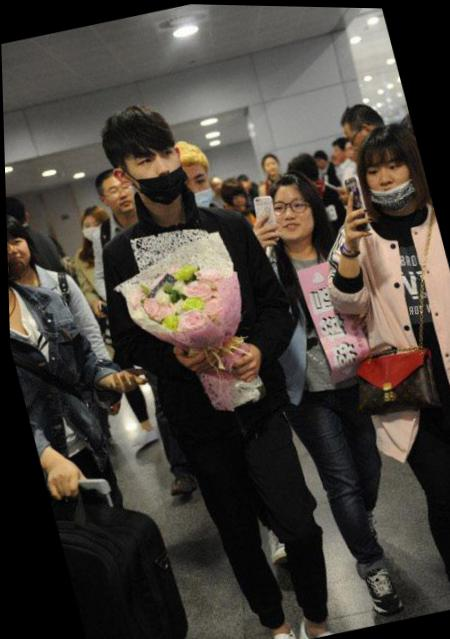NONE: (103, 177, 136, 216), (6, 236, 31, 269), (6, 236, 17, 292), (264, 157, 278, 174)
OK: (271, 191, 319, 242), (173, 166, 218, 215), (80, 217, 106, 247)
WRONG: (116, 137, 189, 209), (361, 144, 428, 210)
